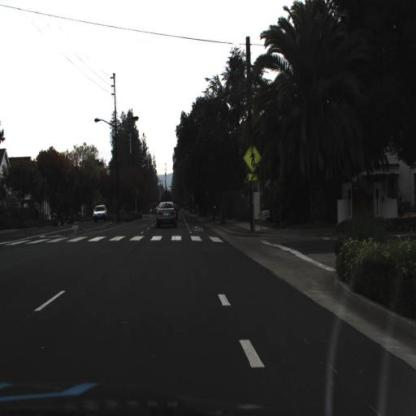car: (150, 191, 180, 239), (94, 202, 109, 222), (173, 197, 179, 223)
